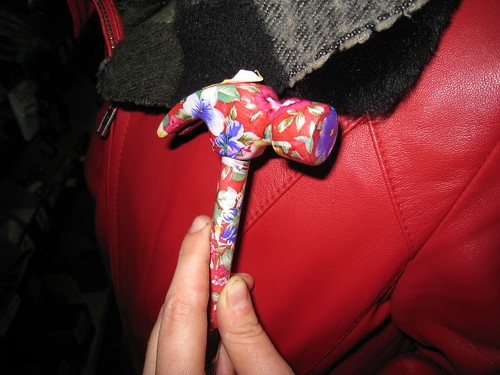hammer: (157, 75, 340, 333)
